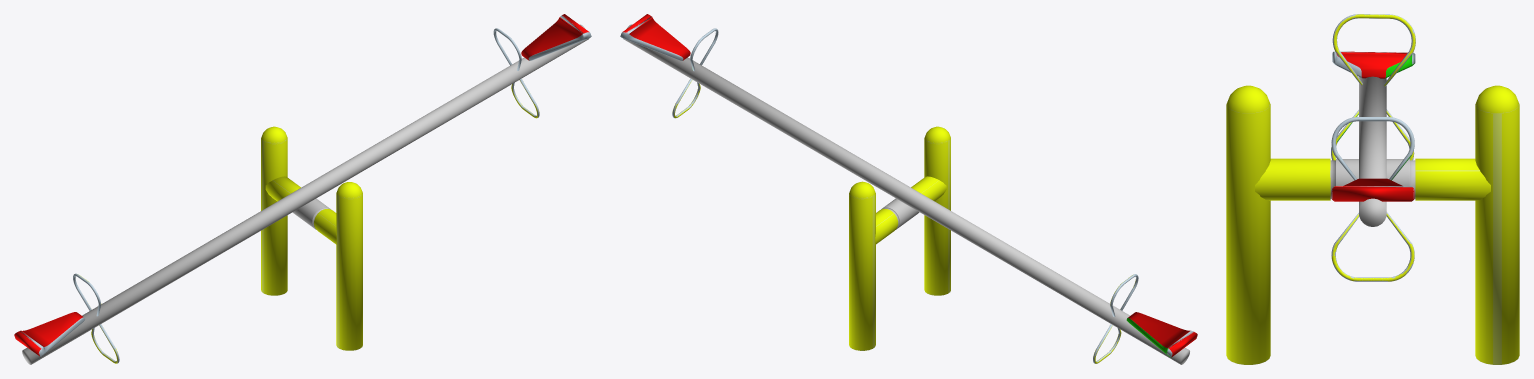
File: seesaw.obj
3 views of the same model, side by side, from view 1: azimuth 30°, elevation 25°; view 2: azimuth 150°, elevation 25°; view 3: azimuth 270°, elevation 25° (orthographic). The views are drawn at different scales.
Parts seen in each view (by area): view 1: Object001, Sphere002, Sphere001, Object003, Object002, Sphere003, Line002, Line003; view 2: Object001, Sphere001, Sphere002, Object003, Object002, Sphere003, Line003, Line002; view 3: Sphere001, Sphere002, Sphere003, Object001, Line003, Object003, Object002, Line002.
Boxes of the visible parts, <box> form: Object001: <box>22,24,589,364</box>; Sphere002: <box>336,182,362,350</box>; Sphere001: <box>261,126,287,295</box>; Object003: <box>521,14,591,60</box>; Object002: <box>14,312,84,356</box>; Sphere003: <box>265,176,336,244</box>; Line002: <box>73,273,119,363</box>; Line003: <box>493,28,539,118</box>; Object001: <box>623,24,1189,364</box>; Sphere001: <box>849,181,875,350</box>; Sphere002: <box>924,126,950,295</box>; Object003: <box>620,14,690,60</box>; Object002: <box>1126,312,1197,357</box>; Sphere003: <box>875,176,946,244</box>; Line003: <box>672,28,718,118</box>; Line002: <box>1093,274,1138,363</box>; Sphere001: <box>1475,85,1519,364</box>; Sphere002: <box>1226,85,1270,364</box>; Sphere003: <box>1255,158,1490,200</box>; Object001: <box>1330,76,1415,226</box>; Line003: <box>1331,117,1414,281</box>; Object003: <box>1331,178,1414,201</box>; Object002: <box>1332,51,1415,78</box>; Line002: <box>1331,14,1415,160</box>.
Bounding box in the file's own units: 393 × 159 × 107.
